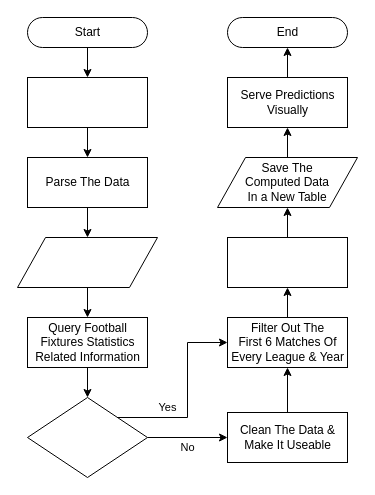
The diagram is 375 pixels wide and 495 high, and some of its shapes have lost their labels. The centre of each missing label's shape, as x and y in pixels:
Collect Football Related Data: the point at 87,102
Conduct Statistical Computations Using Poisson Distribution: the point at 287,262
Create Necessary Tables & Views: the point at 87,262
Is The Data Useable?: the point at 87,437
